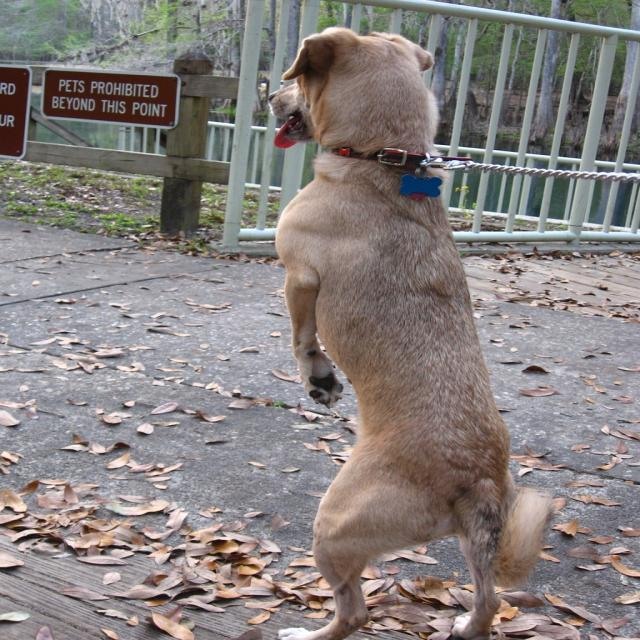Dog: (275, 24, 552, 639)
